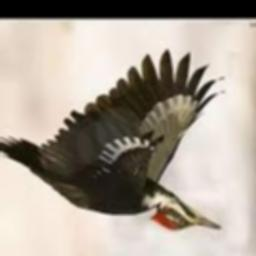Woodpecker: (0, 49, 226, 231)
